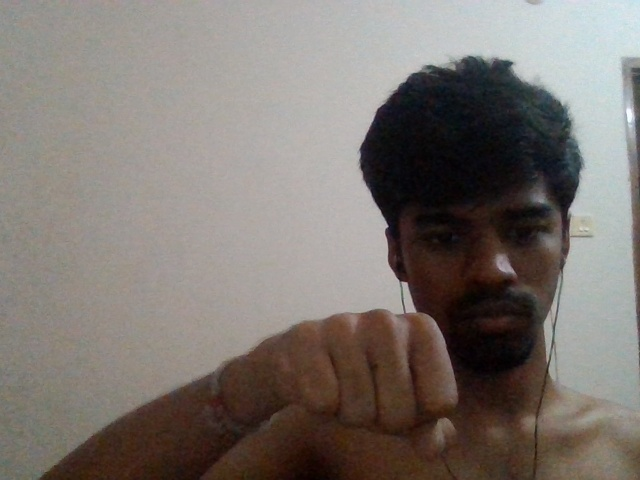Yes: (274, 306, 469, 480)
